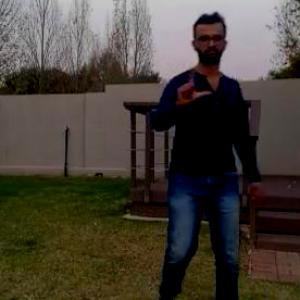land_hand: (167, 63, 212, 111)
